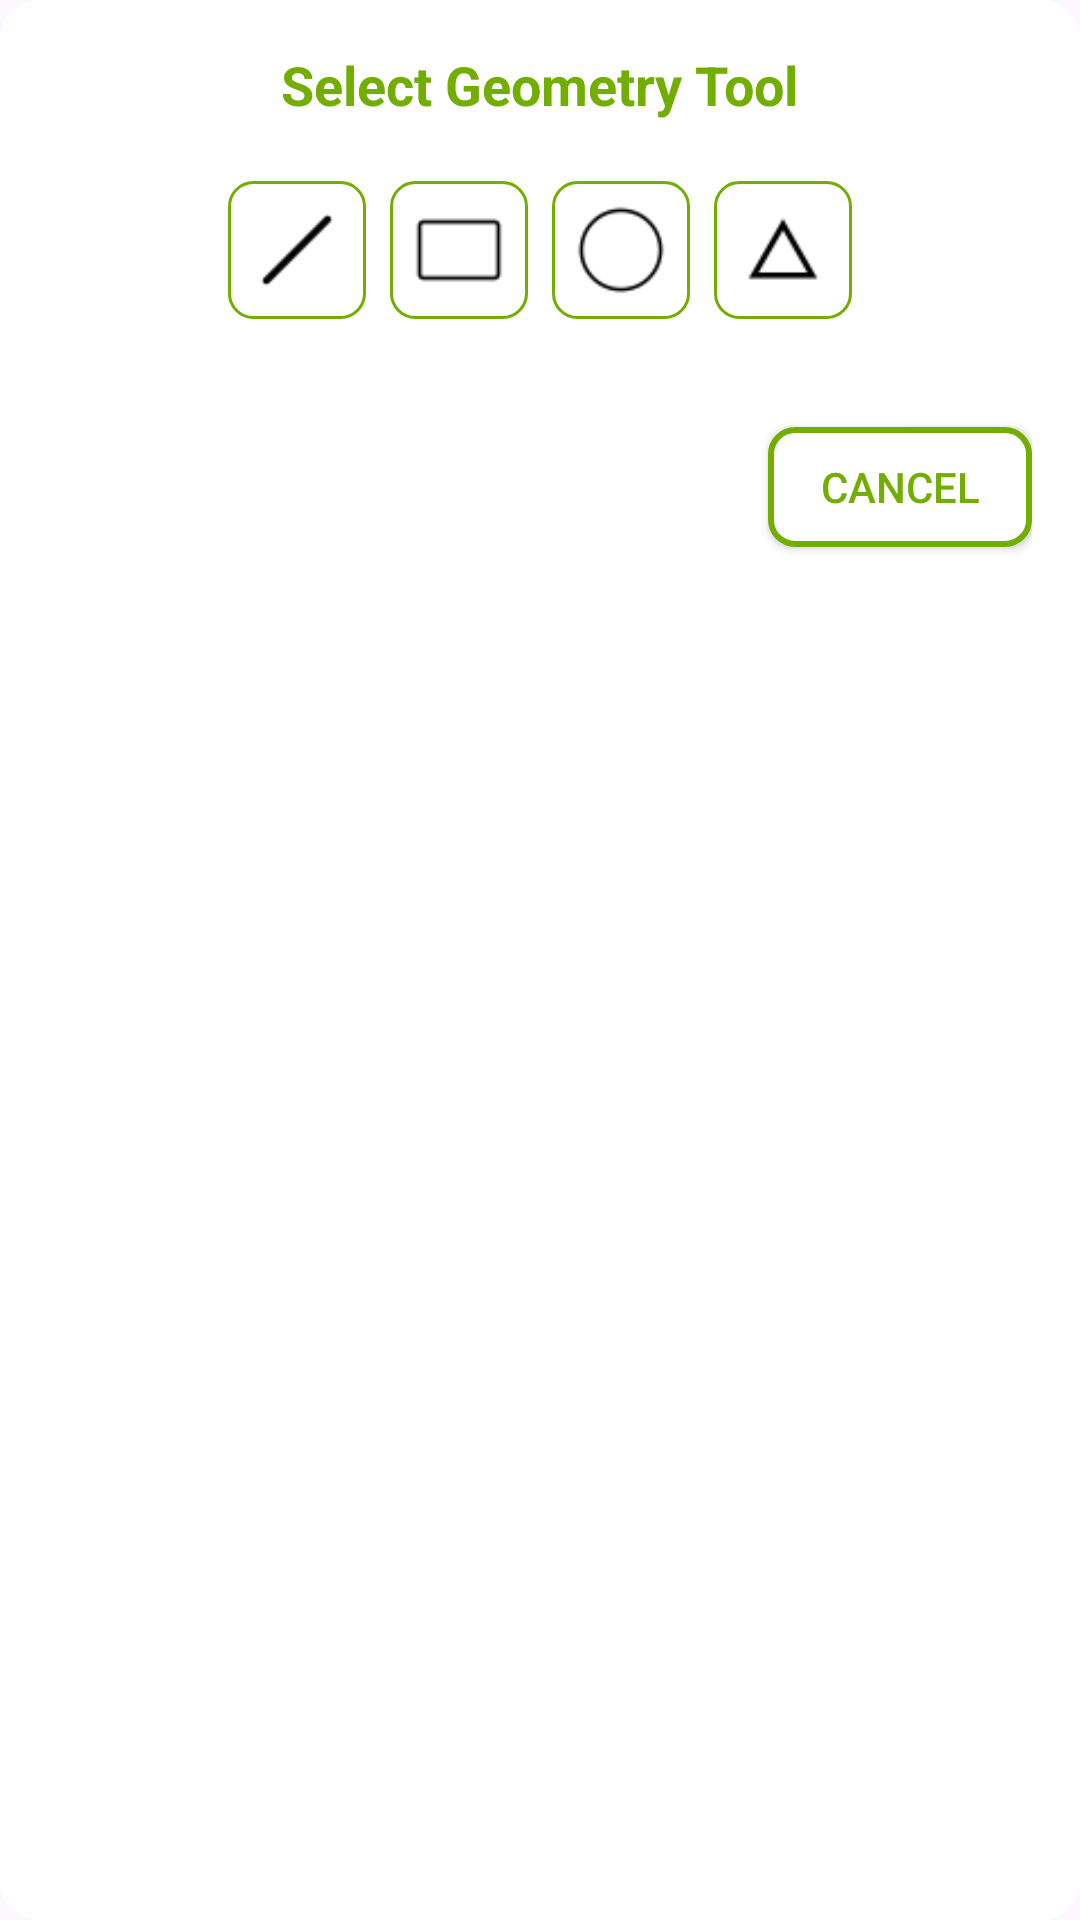

Icons on this 1080px x 1920px Android screen, each with its box as bbox=(x1, y1, x2, y2):
Circle: bbox=(578, 207, 664, 293)
Line: bbox=(261, 214, 332, 286)
Triangle: bbox=(748, 218, 818, 280)
